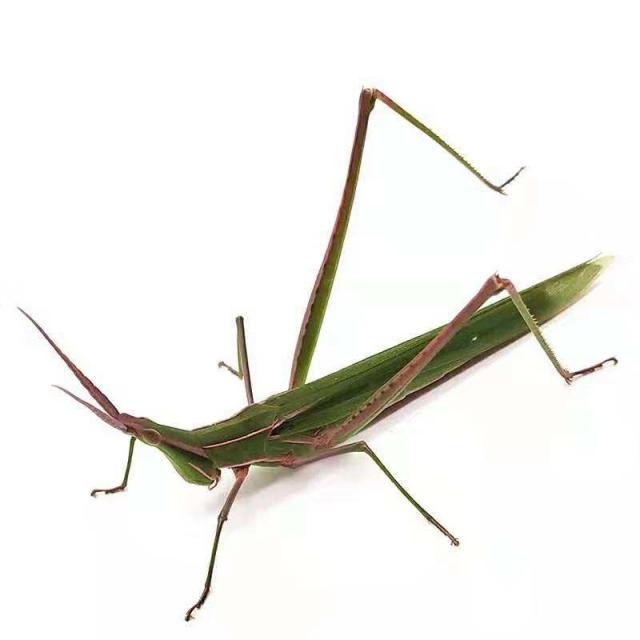ZhaMeng: (28, 82, 608, 544)
